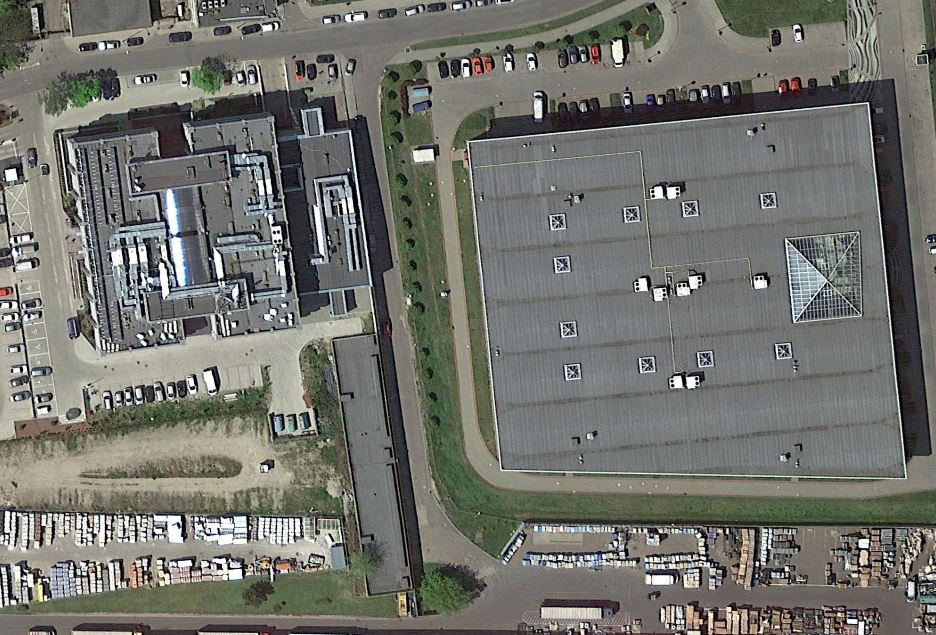block of flats: (325, 323, 430, 607)
shopping_center: (472, 84, 918, 505), (66, 83, 384, 360)
